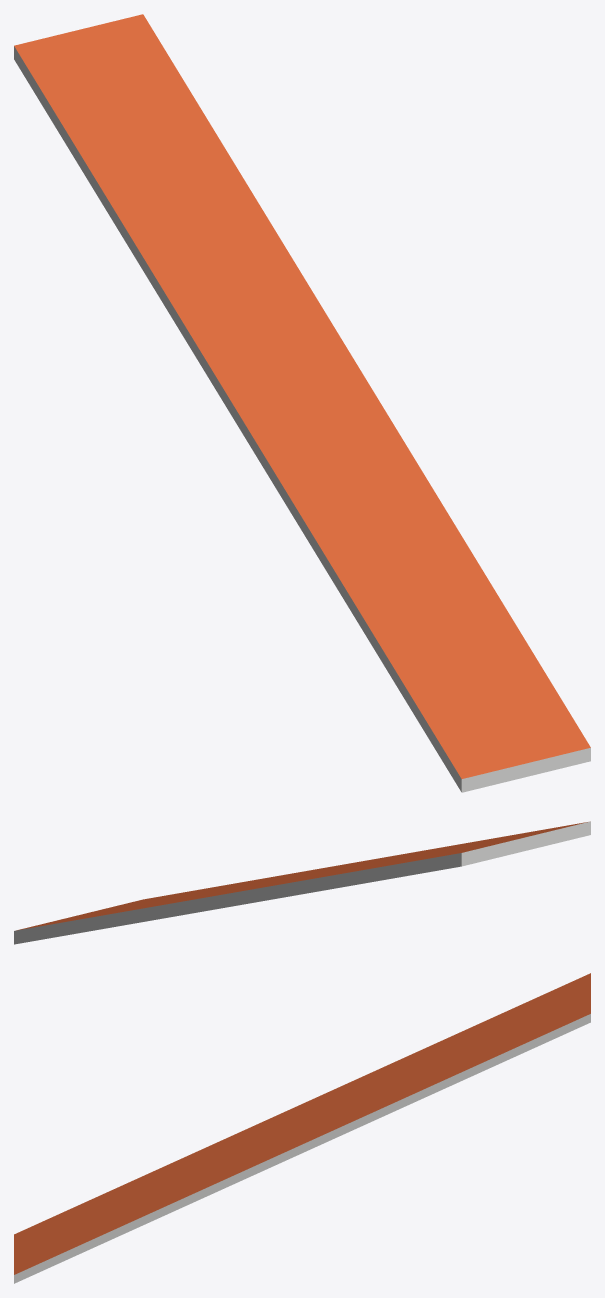
File: telhado_meia_agua_v6_i50_1m.glb
3 renders of one model, top to bottom at view 1: azimuth 30°, elevation 25°; view 2: azimuth 210°, elevation 25°; view 3: azimuth 270°, elevation 25°, orthographic. The views are drawn at different scales.
Visible parts, largest first — view 1: telhado_meia_agua_v6_i50_1m; view 2: telhado_meia_agua_v6_i50_1m; view 3: telhado_meia_agua_v6_i50_1m.
Part boxes in pixels (box(x1,y1,x2,y2)): telhado_meia_agua_v6_i50_1m: box(14, 14, 590, 792); telhado_meia_agua_v6_i50_1m: box(14, 821, 590, 944); telhado_meia_agua_v6_i50_1m: box(14, 973, 590, 1283).
Size of the model in its own units: 1 by 3.1 by 6.
